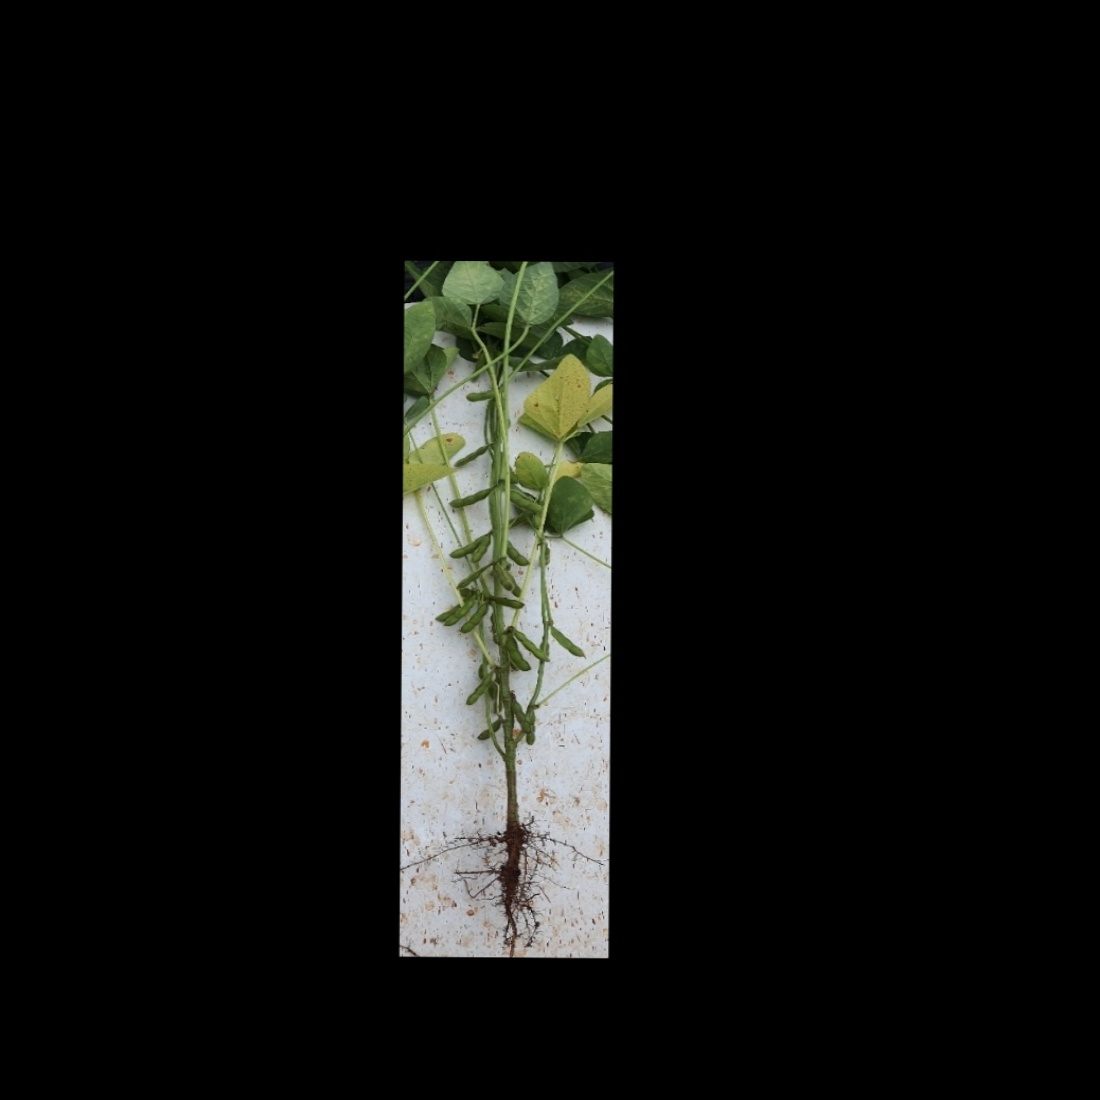pod: (448, 438, 498, 469), (445, 482, 500, 510), (548, 622, 586, 659), (515, 627, 556, 661), (453, 563, 496, 590), (464, 669, 494, 707), (502, 634, 530, 672), (460, 601, 491, 636), (501, 540, 532, 567), (474, 716, 502, 743), (464, 386, 501, 403), (489, 593, 526, 609), (524, 709, 536, 748)
soy: (420, 290, 593, 926)
